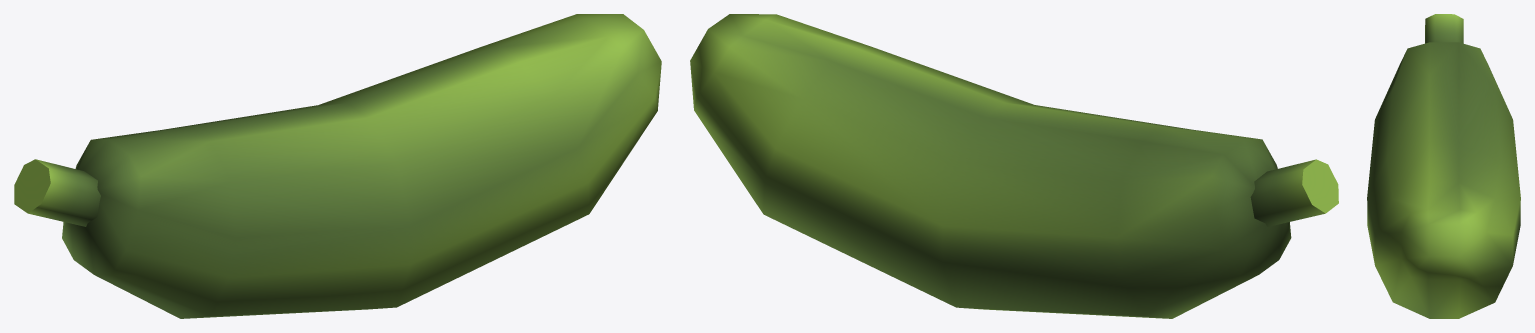
File: cucumber_1.fbx
The picture shows the model from 3 angles, left to right: view 1: azimuth 30°, elevation 25°; view 2: azimuth 150°, elevation 25°; view 3: azimuth 270°, elevation 25°; orthographic projection. The views are drawn at different scales.
Parts seen in each view (by area): view 1: cucumber_1; view 2: cucumber_1; view 3: cucumber_1.
Part boxes in pixels (box(x1,y1,x2,y2)): cucumber_1: box(14, 14, 661, 318); cucumber_1: box(690, 14, 1338, 318); cucumber_1: box(1367, 14, 1520, 318).
Bounding box in the file's own units: 52.41 × 17.1 × 15.28.
